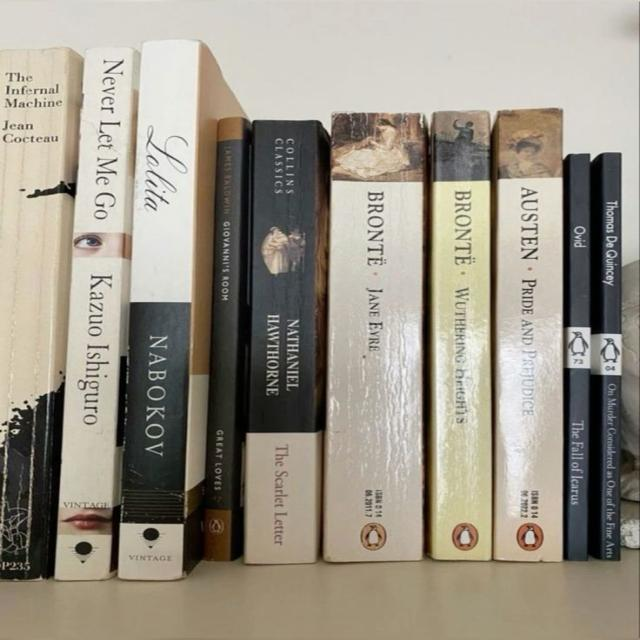book: (122, 54, 210, 574), (328, 164, 422, 561), (3, 47, 75, 553), (242, 126, 321, 564), (495, 121, 560, 560), (429, 113, 490, 559), (76, 56, 123, 574), (204, 124, 250, 558), (588, 155, 621, 559), (563, 153, 594, 555)
